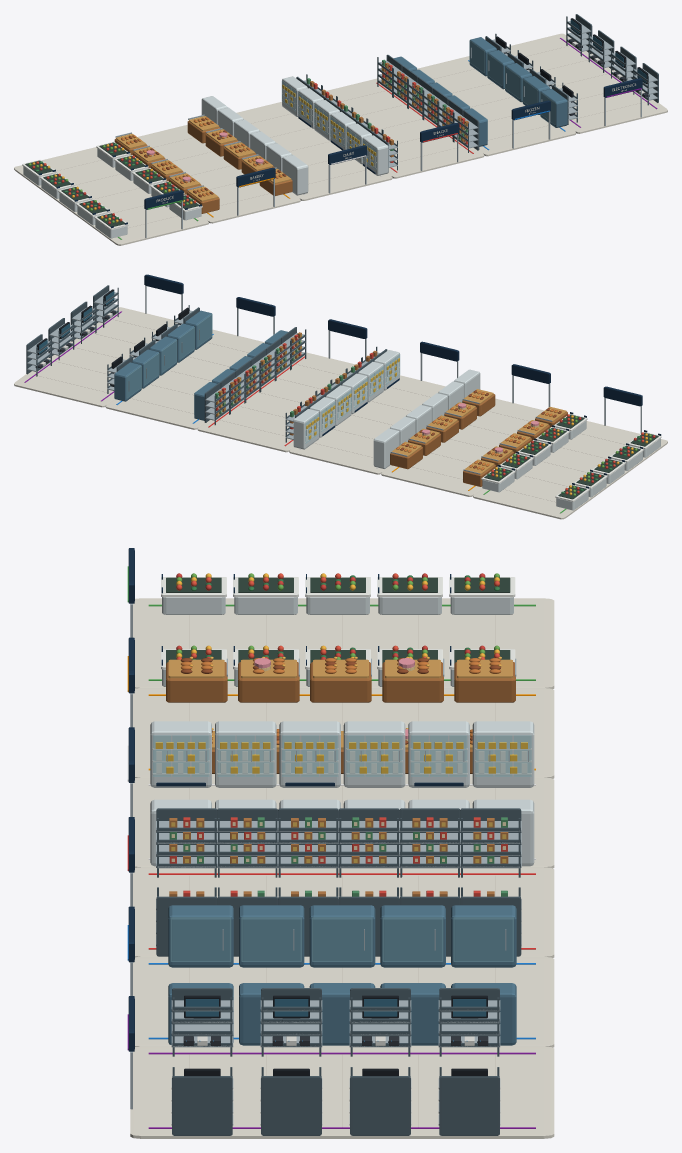
File: checkout_chaos_aisles.glb
3 views of the same model, one above another, from view 1: azimuth 30°, elevation 25°; view 2: azimuth 150°, elevation 25°; view 3: azimuth 270°, elevation 25° (orthographic). The views are drawn at different scales.
Parts seen in each view (by area): view 1: Electronics aisle floor, Produce aisle floor, Snacks aisle floor, Frozen aisle floor, Bakery aisle floor, Dairy aisle floor, Dairy refrigerator cold cabinet, Frozen island case.005, Dairy refrigerator cold cabinet.006, Frozen island case.009, Frozen island case.008, Frozen island case.007 (+21 smaller); view 2: Electronics aisle floor, Snacks aisle floor, Produce aisle floor, Frozen aisle floor, Bakery aisle floor, Dairy aisle floor, Frozen island case.009, Dairy refrigerator cold cabinet.005, Dairy refrigerator cold cabinet.011, Frozen island case.008, Frozen island case.005, Frozen island case.006 (+20 smaller); view 3: Electronics aisle floor, Produce aisle floor, Snacks aisle floor, Frozen aisle floor, Bakery aisle floor, Dairy aisle floor, Frozen island case.002, Frozen island case.003, Frozen island case, Frozen island case.001, Frozen island case.004, Electronics wall shelf back.004 (+41 smaller).
Boxes of the visible parts, x1,y1,x2,y2 form: Electronics aisle floor: (507,33,667,133); Produce aisle floor: (14,147,208,245); Snacks aisle floor: (326,78,484,178); Frozen aisle floor: (417,56,576,156); Bakery aisle floor: (137,125,300,223); Dairy aisle floor: (236,101,392,200); Dairy refrigerator cold cabinet: (282,155,308,195); Frozen island case.005: (540,89,567,127); Dairy refrigerator cold cabinet.006: (362,135,388,175); Frozen island case.009: (469,37,496,76); Frozen island case.008: (487,50,514,89); Frozen island case.007: (505,63,532,102); Electronics aisle floor: (14,307,177,407); Snacks aisle floor: (197,352,355,452); Produce aisle floor: (473,421,667,519); Frozen aisle floor: (105,329,264,429); Bakery aisle floor: (381,398,544,496); Dairy aisle floor: (289,375,445,474); Frozen island case.009: (114,362,141,401); Dairy refrigerator cold cabinet.005: (373,428,399,468); Dairy refrigerator cold cabinet.011: (293,409,319,449); Frozen island case.008: (132,349,159,388); Frozen island case.005: (185,310,212,349); Frozen island case.006: (167,323,194,362); Electronics aisle floor: (130,1046,554,1138); Produce aisle floor: (133,598,554,689); Snacks aisle floor: (133,867,554,957); Frozen aisle floor: (133,956,554,1047); Bakery aisle floor: (133,688,554,778); Dairy aisle floor: (133,777,554,868); Frozen island case.002: (309,905,375,967); Frozen island case.003: (380,905,445,967); Frozen island case: (168,905,233,967); Frozen island case.001: (239,905,304,967); Frozen island case.004: (451,905,516,967); Electronics wall shelf back.004: (172,1076,232,1135).
Size of the model in its own units: 45.03 by 3.15 by 15.1.
